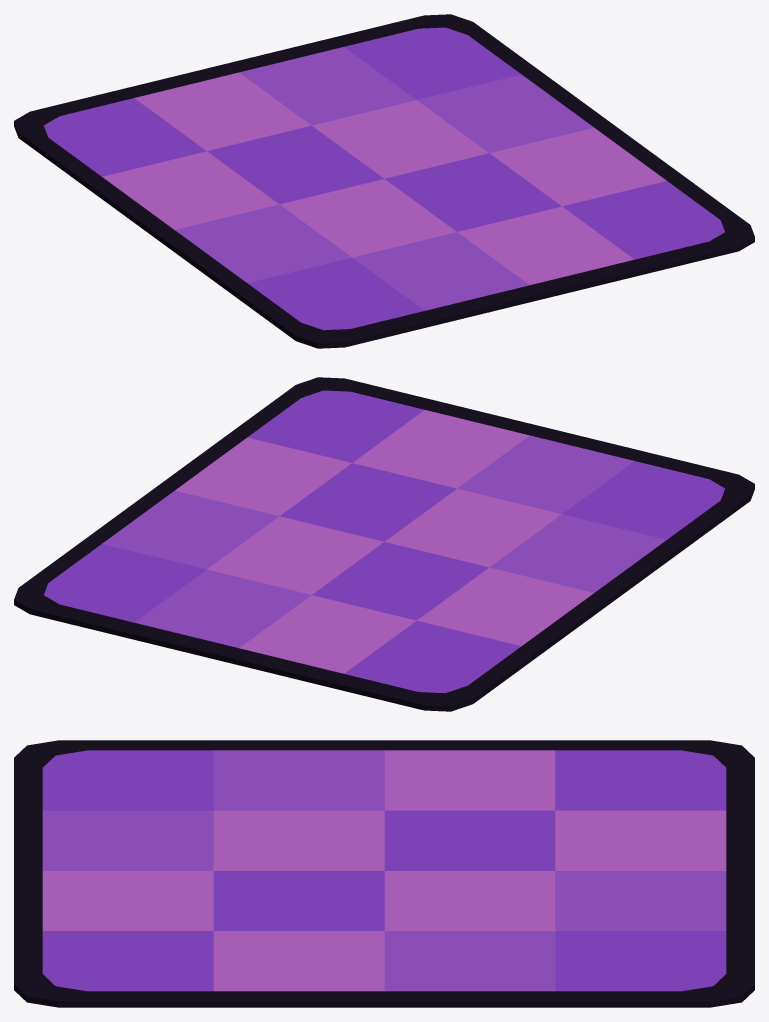
File: Rug_Violet.fbx
3 views of the same model, one above another, from view 1: azimuth 30°, elevation 25°; view 2: azimuth 150°, elevation 25°; view 3: azimuth 270°, elevation 25° (orthographic). The views are drawn at different scales.
Visible parts, largest first — view 1: Plane.084; view 2: Plane.084; view 3: Plane.084.
Boxes of the visible parts, x1,y1,x2,y2 form: Plane.084: (14, 14, 754, 348); Plane.084: (14, 377, 754, 711); Plane.084: (14, 740, 754, 1007).
Size of the model in its own units: 450 by 5 by 540.
